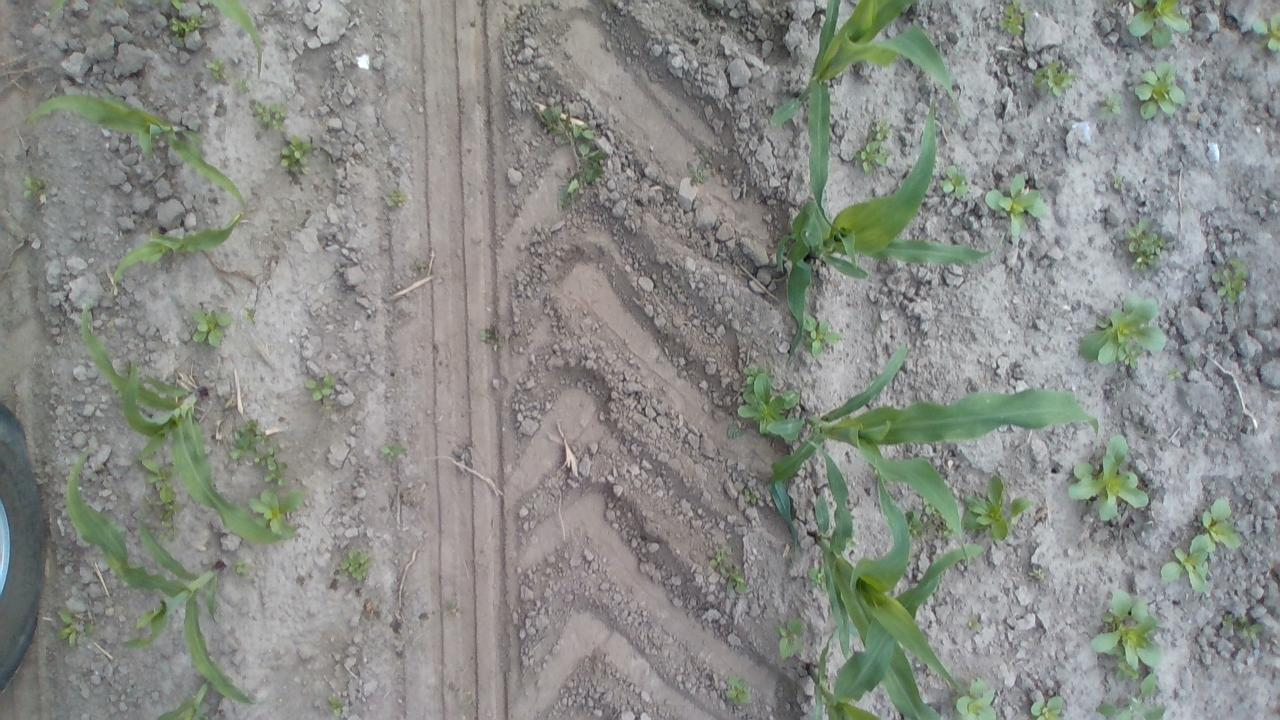Maize: (768, 338, 1098, 558), (774, 80, 1011, 354), (79, 300, 293, 542), (66, 444, 258, 707), (802, 440, 982, 720), (778, 0, 952, 227), (25, 93, 246, 206), (113, 211, 245, 294), (802, 624, 882, 720), (210, 0, 265, 81), (151, 678, 215, 720), (51, 0, 72, 23), (170, 0, 180, 11)
Weeds: (1064, 430, 1150, 522), (542, 103, 612, 212), (1076, 287, 1165, 370), (1094, 586, 1168, 676), (736, 360, 802, 441), (960, 474, 1030, 545), (980, 171, 1048, 241), (227, 417, 290, 484), (1094, 671, 1168, 720), (1132, 59, 1186, 121), (1128, 0, 1189, 49), (1190, 494, 1240, 550), (144, 486, 200, 532), (1158, 545, 1210, 594), (1124, 218, 1169, 272), (249, 488, 299, 530), (1212, 254, 1252, 306), (710, 543, 749, 595), (192, 302, 230, 354), (956, 676, 1000, 720), (54, 606, 96, 648), (803, 314, 843, 358), (1032, 56, 1076, 96), (250, 95, 292, 134), (276, 132, 314, 174), (998, 0, 1035, 40), (778, 616, 807, 664), (339, 546, 373, 582), (685, 151, 716, 190), (300, 369, 338, 400), (1251, 14, 1280, 53), (854, 141, 890, 172), (139, 457, 175, 485), (20, 172, 50, 204), (168, 13, 202, 41), (1030, 692, 1064, 720), (1096, 88, 1124, 121), (724, 672, 751, 706), (941, 163, 968, 197), (203, 54, 230, 88), (1238, 614, 1266, 642), (806, 562, 830, 591), (376, 439, 406, 461), (479, 324, 502, 348), (871, 118, 893, 143), (231, 557, 253, 578), (906, 511, 924, 536), (328, 694, 347, 717), (242, 304, 261, 326), (391, 182, 405, 206), (238, 68, 250, 95), (742, 487, 759, 505), (1111, 172, 1126, 192), (1167, 365, 1184, 382), (727, 420, 743, 437), (459, 696, 474, 710), (922, 499, 934, 516), (1222, 612, 1234, 628), (968, 618, 979, 634), (942, 524, 954, 538), (446, 600, 458, 612), (415, 262, 426, 275)
